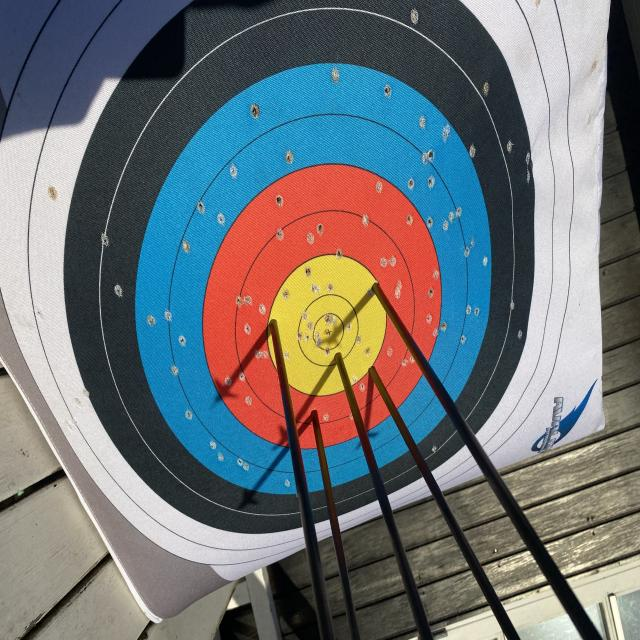Arrow_Red: (300, 400, 330, 434), (364, 353, 386, 392)
Arrow_Yellow: (262, 304, 293, 353), (361, 268, 395, 304), (329, 338, 358, 378)
